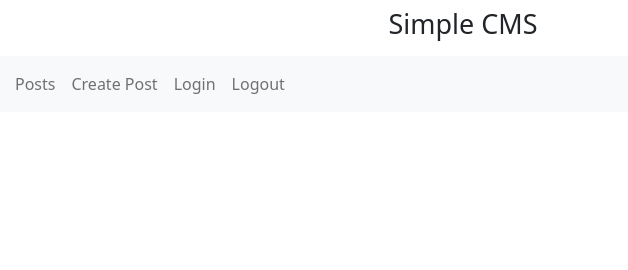
Login page › should be available via navigation
Click the link "Login" at (195, 84), box x1=174 y1=73 x2=216 y2=95
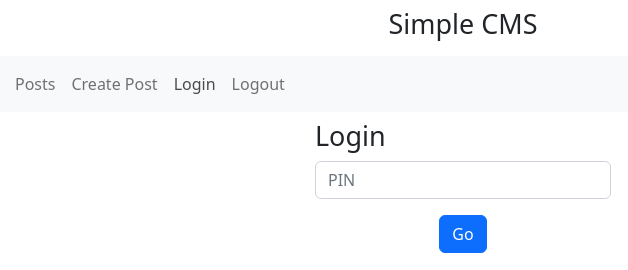
Check: the heading "Login" is shown, box x1=315 y1=117 x2=386 y2=154
Check: the submit button is enabled, box x1=439 y1=215 x2=486 y2=253
